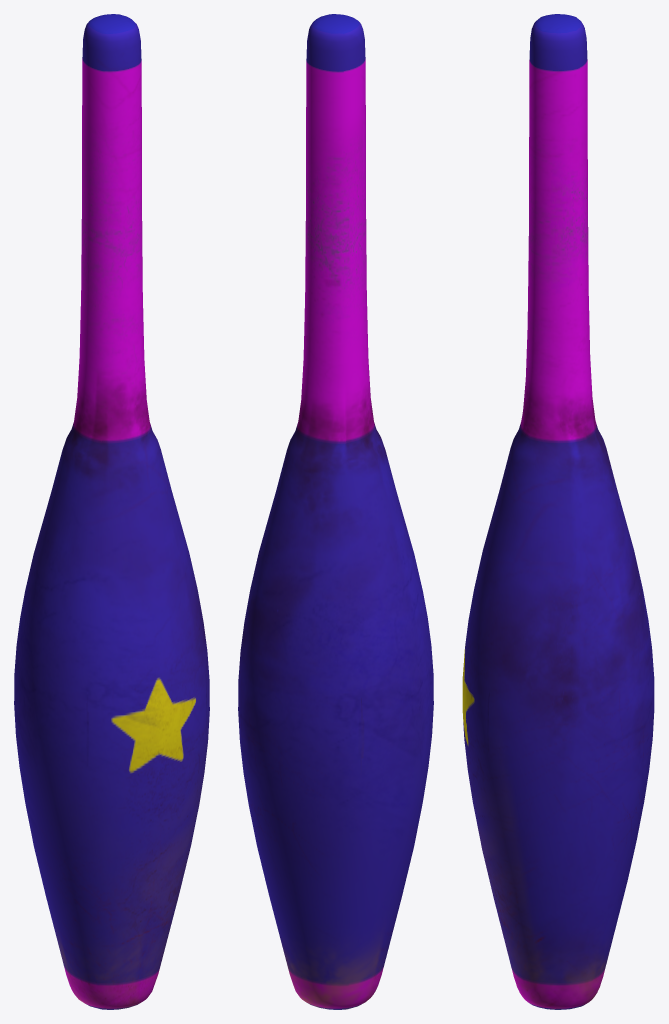
Rendered from pin.obj.
3 renders of one model, left to right at view 1: azimuth 30°, elevation 25°; view 2: azimuth 150°, elevation 25°; view 3: azimuth 270°, elevation 25°, orthographic.
Visible parts, largest first — view 1: Cube; view 2: Cube; view 3: Cube.
Part boxes in pixels (x1,y1,x2,y2): Cube: (14, 14, 209, 1009); Cube: (238, 14, 433, 1009); Cube: (462, 14, 654, 1009).
Size of the model in its own units: 1.13 by 6.39 by 1.13.
